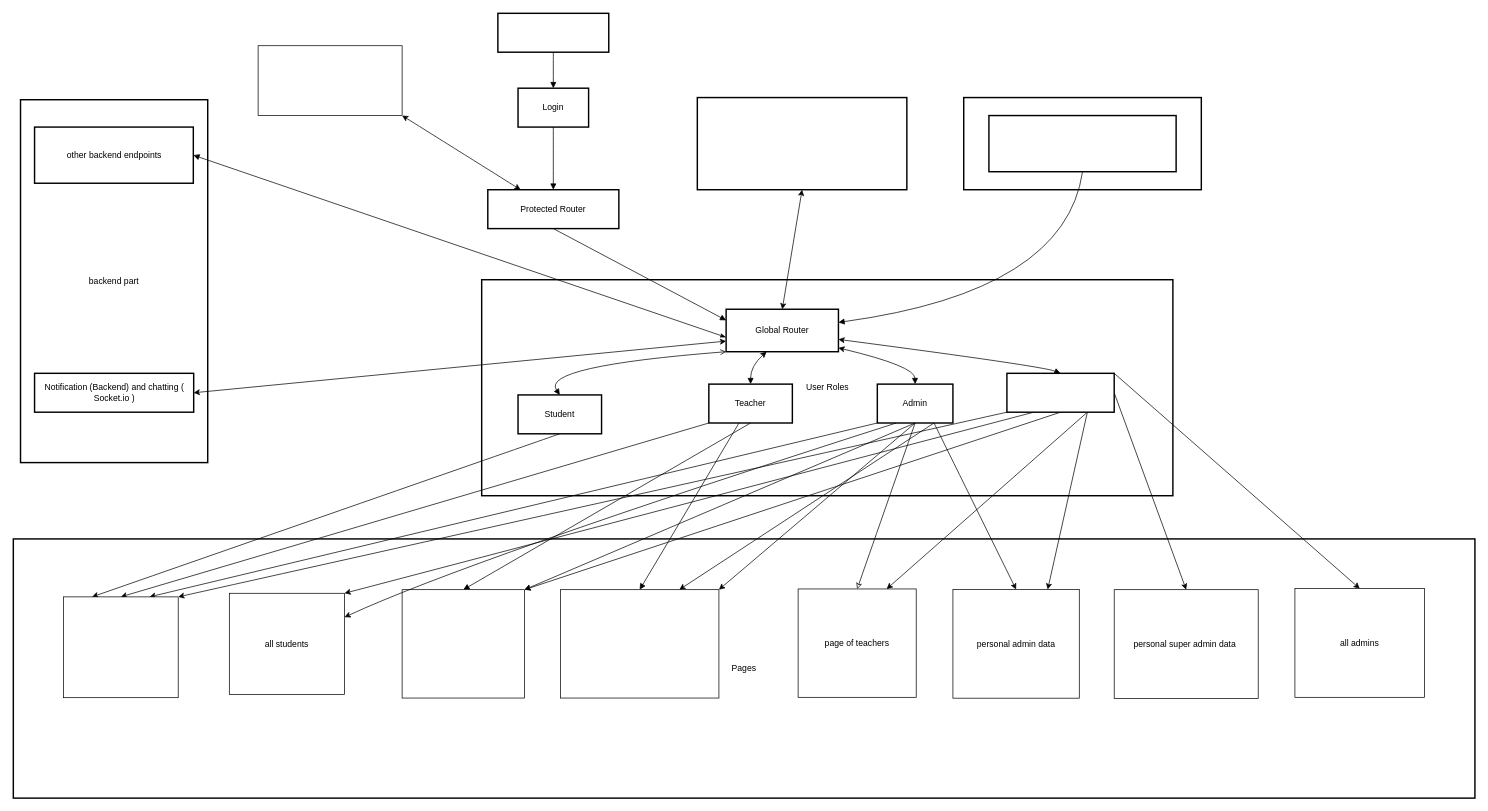
Some shapes in this 1488 by 811 pixel diagram are drawn without their labels. The centre of each missing label's shape, as x and y in pixels:
Landing Page: (553,32)
Language (AR/EN) & Theme (Light/Dark): (1082,143)
Local Storage ( Frontend ): (329,80)
Notification ( Frontend ): (801,143)
page of student attached to teacher: (639,643)
personal student data: (120,647)
personal teacher data: (463,643)
Super Admin: (1060,392)
